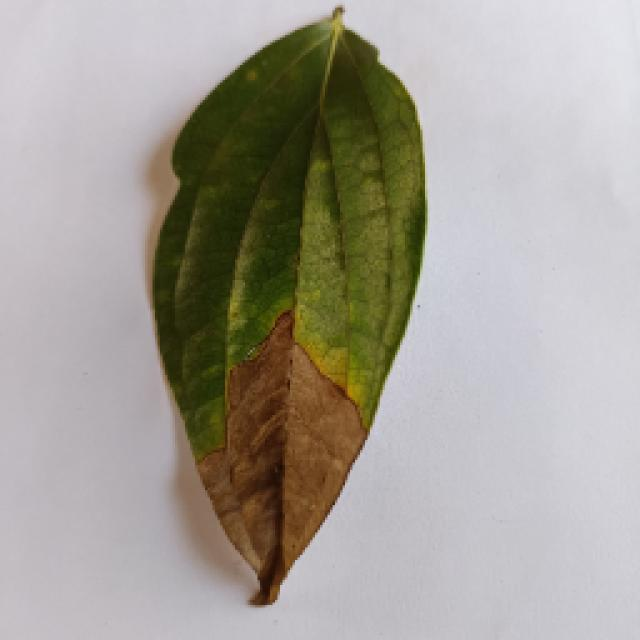footrot: (148, 15, 428, 603)
